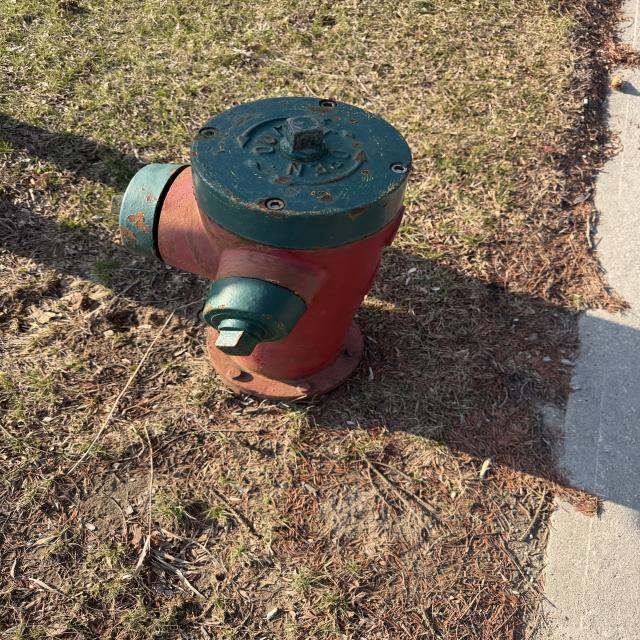Fire hydrant: (108, 96, 413, 403)
